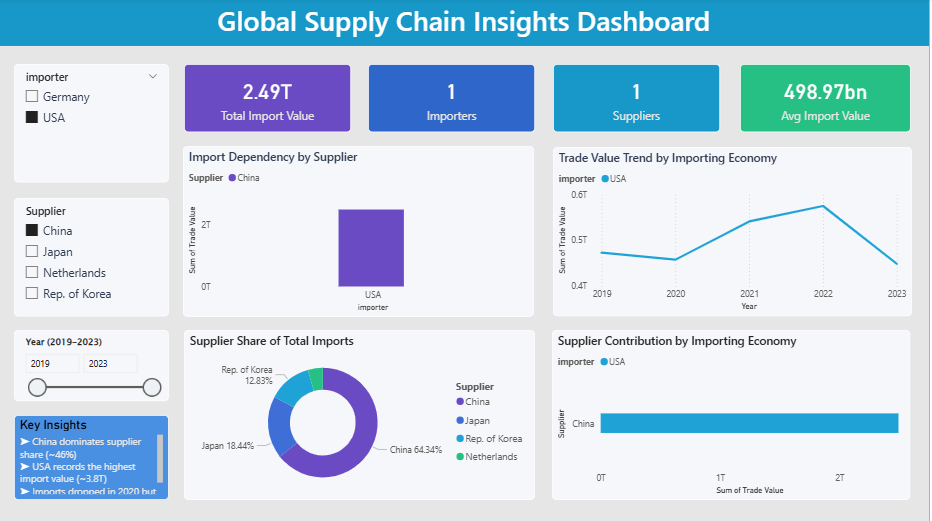

The page's visual inventory and layout, read from the dashboard file:
{"tool":"powerbi","page":{"name":"Page 1","canvas":[1280,720],"ordinal":0},"visuals":[{"type":"clusteredBarChart","title":"Supplier Contribution by Importing Economy","fields":{"Category":["Sheet1.Supplier"],"Y":["Sum(Sheet1.Trade Value)"],"Series":["Sheet1.importer"]},"box":[761.1,456.9,492.7,234],"z":0},{"type":"lineChart","title":"Trade Value Trend by Importing Economy","fields":{"Category":["Sheet1.Year"],"Y":["Sum(Sheet1.Trade Value)"],"Series":["Sheet1.importer"]},"box":[762.5,205.1,494.1,232.6],"z":1000},{"type":"donutChart","title":"Supplier Share of Total Imports","fields":{"Category":["Sheet1.Supplier"],"Y":["Sum(Sheet1.Trade Value)"]},"box":[254.6,456.9,483.1,234],"z":2000},{"type":"lineStackedColumnComboChart","title":"Import Dependency by Supplier","fields":{"Category":["Sheet1.importer"],"Y":["Sum(Sheet1.Trade Value)"],"Series":["Sheet1.Supplier"]},"box":[253.2,203.7,483.1,235.4],"z":3000},{"type":"slicer","fields":{"Values":["Sheet1.importer"]},"box":[21.2,91.2,212.5,162.5],"z":4000},{"type":"slicer","fields":{"Values":["Sheet1.Supplier"]},"box":[21.2,275,212.5,162.5],"z":5000},{"type":"slicer","fields":{"Values":["Sheet1.Year"]},"box":[20.6,456.9,213.3,97.7],"z":6000},{"type":"card","fields":{"Values":["Sum(Sheet1.Trade Value)"]},"box":[254.6,90.8,229.8,93.6],"z":7000},{"type":"card","fields":{"Values":["Sheet1.Avg Import Value"]},"box":[1019.9,90.8,235.4,93.6],"z":8000},{"type":"card","fields":{"Values":["Sheet1.Suppliers"]},"box":[762.5,90.8,229.8,93.6],"z":9000},{"type":"card","fields":{"Values":["Sheet1.Importers"]},"box":[507.9,90.8,229.8,93.6],"z":10000},{"type":"textbox","box":[0,0,1280,66.1],"z":11000},{"type":"textbox","title":"Key Insights","box":[20.6,573.9,213.3,117],"z":12000}]}

Visuals, with their boxes in screenshot pixels (x1, y1, x2, y2), scaled from the page's 1280x720 canvas onto the 932x521 screenshot:
"Supplier Contribution by Importing Economy" clusteredBarChart: (left=554, top=331, right=913, bottom=500)
"Trade Value Trend by Importing Economy" lineChart: (left=555, top=148, right=915, bottom=317)
"Supplier Share of Total Imports" donutChart: (left=185, top=331, right=537, bottom=500)
"Import Dependency by Supplier" lineStackedColumnComboChart: (left=184, top=147, right=536, bottom=318)
slicer - Sheet1.importer: (left=15, top=66, right=170, bottom=184)
slicer - Sheet1.Supplier: (left=15, top=199, right=170, bottom=317)
slicer - Sheet1.Year: (left=15, top=331, right=170, bottom=401)
card - Sum(Sheet1.Trade Value): (left=185, top=66, right=353, bottom=133)
card - Sheet1.Avg Import Value: (left=743, top=66, right=914, bottom=133)
card - Sheet1.Suppliers: (left=555, top=66, right=723, bottom=133)
card - Sheet1.Importers: (left=370, top=66, right=537, bottom=133)
textbox: (left=0, top=0, right=931, bottom=48)
"Key Insights" textbox: (left=15, top=415, right=170, bottom=500)
